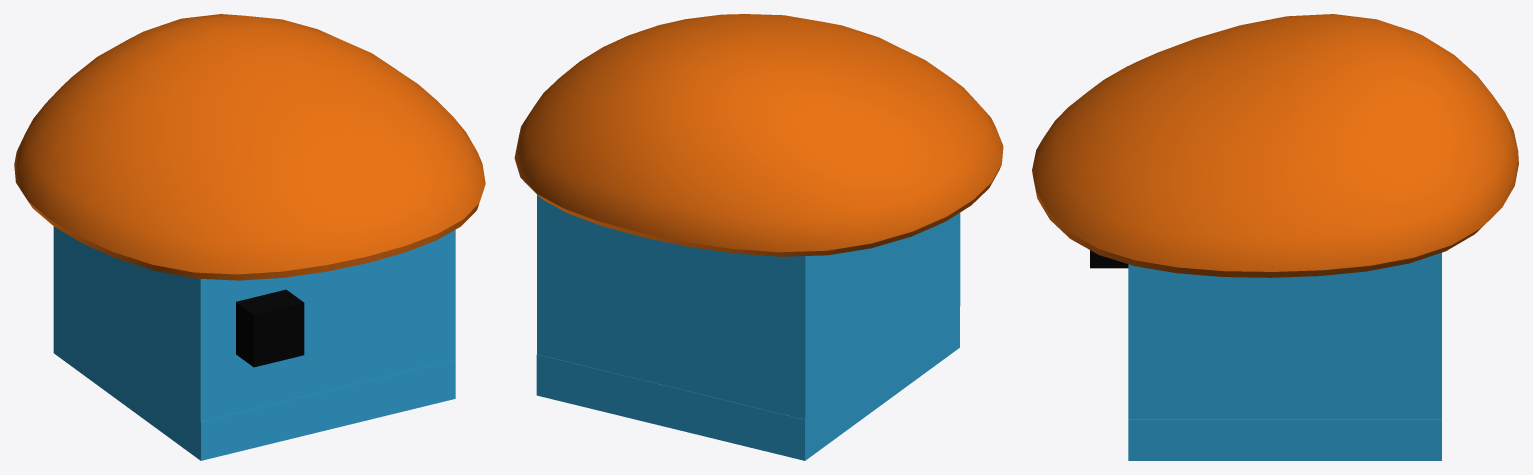
The model's file is Character-2.glb.
3 views of the same model, side by side, from view 1: azimuth 30°, elevation 25°; view 2: azimuth 150°, elevation 25°; view 3: azimuth 270°, elevation 25° (orthographic). The views are drawn at different scales.
Parts seen in each view (by area): view 1: Cube.003, Cube.005, Cube.004; view 2: Cube.003, Cube.005; view 3: Cube.003, Cube.005.
Boxes of the visible parts, x1,y1,x2,y2 form: Cube.003: (14,14,485,280); Cube.005: (53,226,455,460); Cube.004: (236,289,304,367); Cube.003: (514,14,1003,256); Cube.005: (536,195,960,460); Cube.003: (1032,14,1518,277); Cube.005: (1128,252,1441,460).
Size of the model in its own units: 3.15 by 2.44 by 3.1.
